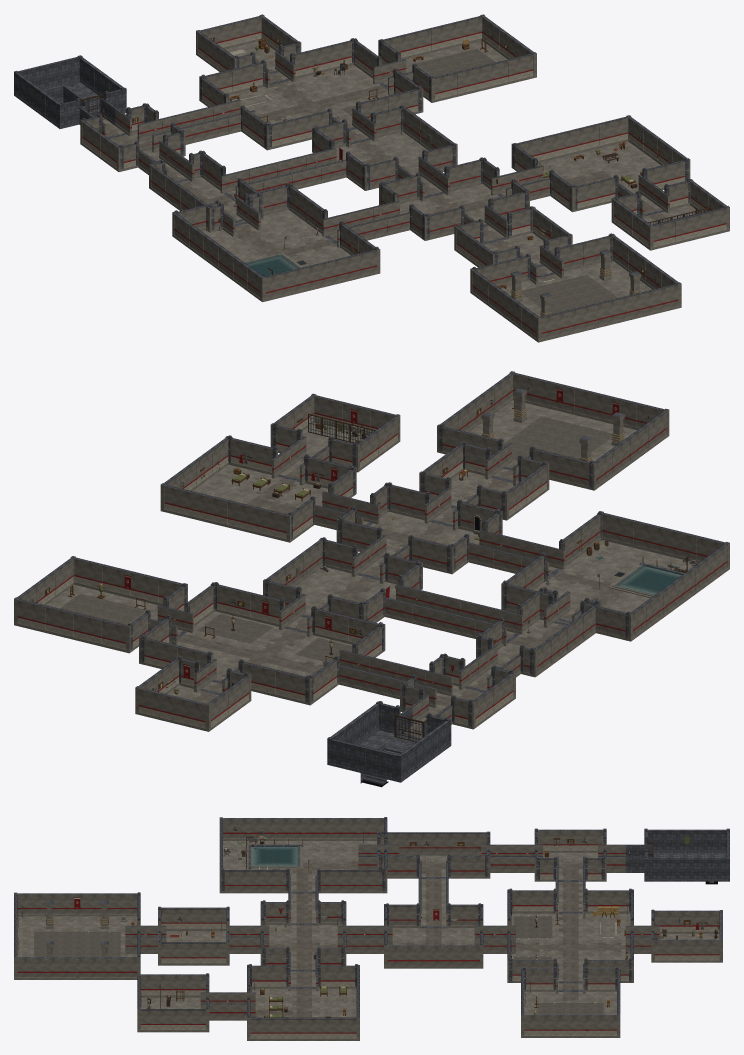
File: dungeon-tutorial.glb
3 views of the same model, one above another, from view 1: azimuth 30°, elevation 25°; view 2: azimuth 150°, elevation 25°; view 3: azimuth 270°, elevation 25° (orthographic). The views are drawn at different scales.
Parts seen in each view (by area): view 1: Wall (×24), Door pier (×26), Passage wall (×11), WL_tutorial_4Antechamber_00, WL_tutorial_2TrainingCourt_20, WL_tutorial_3GuardExercise_10, WL_tutorial_8Cistern_11, WL_tutorial_3GuardExercise_00, WL_tutorial_2TrainingCourt_11, WL_tutorial_8Cistern_01, WL_tutorial_2TrainingCourt_10, WL_tutorial_8Cistern_02 (+21 smaller); view 2: Wall (×24), Door pier (×23), Passage wall (×10), WL_tutorial_4Antechamber_01, WL_tutorial_8Cistern_Water, WL_tutorial_8Cistern_02, WL_tutorial_3GuardExercise_11, WL_tutorial_2TrainingCourt_22, WL_tutorial_3GuardExercise_01, WL_tutorial_8Cistern_12, WL_tutorial_2TrainingCourt_11, WL_tutorial_2TrainingCourt_12 (+17 smaller); view 3: Wall (×16), Door pier (×20), Passage wall (×17), WL_tutorial_8Cistern_Water, WL_tutorial_4Antechamber_11, WL_tutorial_3GuardExercise_21, WL_tutorial_2TrainingCourt_31, WL_tutorial_4Antechamber_10, WL_tutorial_2TrainingCourt_21, WL_tutorial_3GuardExercise_20, WL_tutorial_11Trial_21, WL_tutorial_8Cistern_21 (+36 smaller).
Part boxes in pixels (<box>): Wall (×24): <box>15,16,728,341</box>; Door pier (×26): <box>200,38,691,286</box>; Passage wall (×11): <box>100,97,670,247</box>; WL_tutorial_4Antechamber_00: <box>360,105,427,159</box>; WL_tutorial_2TrainingCourt_20: <box>241,78,299,107</box>; WL_tutorial_3GuardExercise_10: <box>416,48,474,74</box>; WL_tutorial_8Cistern_11: <box>235,234,294,258</box>; WL_tutorial_3GuardExercise_00: <box>450,14,506,66</box>; WL_tutorial_2TrainingCourt_11: <box>300,89,356,112</box>; WL_tutorial_8Cistern_01: <box>273,225,330,250</box>; WL_tutorial_2TrainingCourt_10: <box>279,74,337,98</box>; WL_tutorial_8Cistern_02: <box>296,235,350,264</box>; Wall (×24): <box>15,373,727,781</box>; Door pier (×23): <box>140,424,630,704</box>; Passage wall (×10): <box>271,436,564,707</box>; WL_tutorial_4Antechamber_01: <box>296,537,369,597</box>; WL_tutorial_8Cistern_Water: <box>615,565,682,594</box>; WL_tutorial_8Cistern_02: <box>548,557,618,584</box>; WL_tutorial_3GuardExercise_11: <box>82,593,146,622</box>; WL_tutorial_2TrainingCourt_22: <box>274,626,338,658</box>; WL_tutorial_3GuardExercise_01: <box>47,556,109,613</box>; WL_tutorial_8Cistern_12: <box>595,567,659,594</box>; WL_tutorial_2TrainingCourt_11: <box>212,638,273,663</box>; WL_tutorial_2TrainingCourt_12: <box>232,621,296,647</box>; Wall (×16): <box>15,818,728,1040</box>; Door pier (×20): <box>221,854,632,991</box>; Passage wall (×17): <box>125,844,659,1020</box>; WL_tutorial_8Cistern_Water: <box>251,846,299,866</box>; WL_tutorial_4Antechamber_11: <box>384,904,445,945</box>; WL_tutorial_3GuardExercise_21: <box>521,967,582,1006</box>; WL_tutorial_2TrainingCourt_31: <box>550,911,591,930</box>; WL_tutorial_4Antechamber_10: <box>433,904,483,945</box>; WL_tutorial_2TrainingCourt_21: <box>550,930,591,947</box>; WL_tutorial_3GuardExercise_20: <box>570,967,620,1006</box>; WL_tutorial_11Trial_21: <box>56,931,98,947</box>; WL_tutorial_8Cistern_21: <box>303,841,344,857</box>.
Bounding box in the file's own units: 69.5 × 6.42 × 104.
29 materials, 16 textured.
